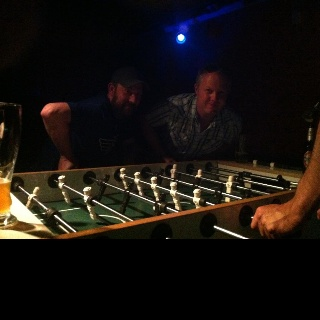without_mask: (194, 63, 231, 114), (112, 81, 143, 118)
